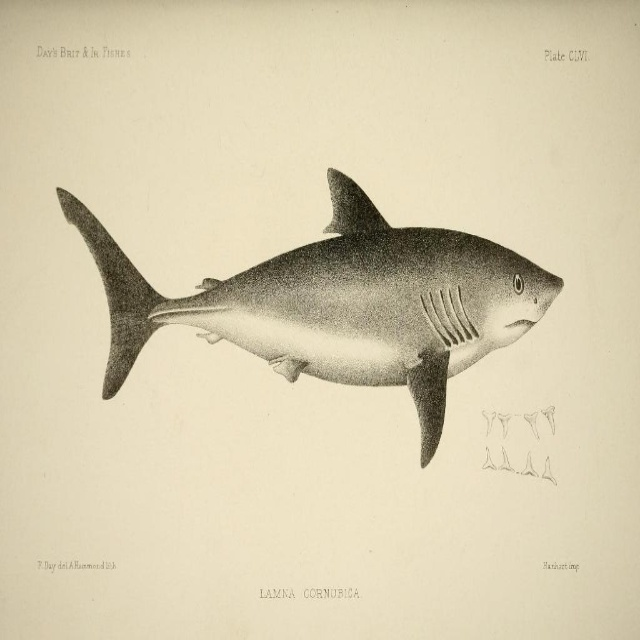Shark: (56, 167, 562, 467)
